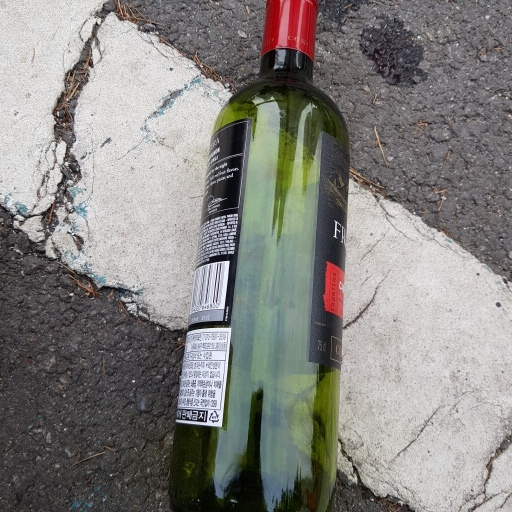Glass_2: (164, 4, 353, 512)
